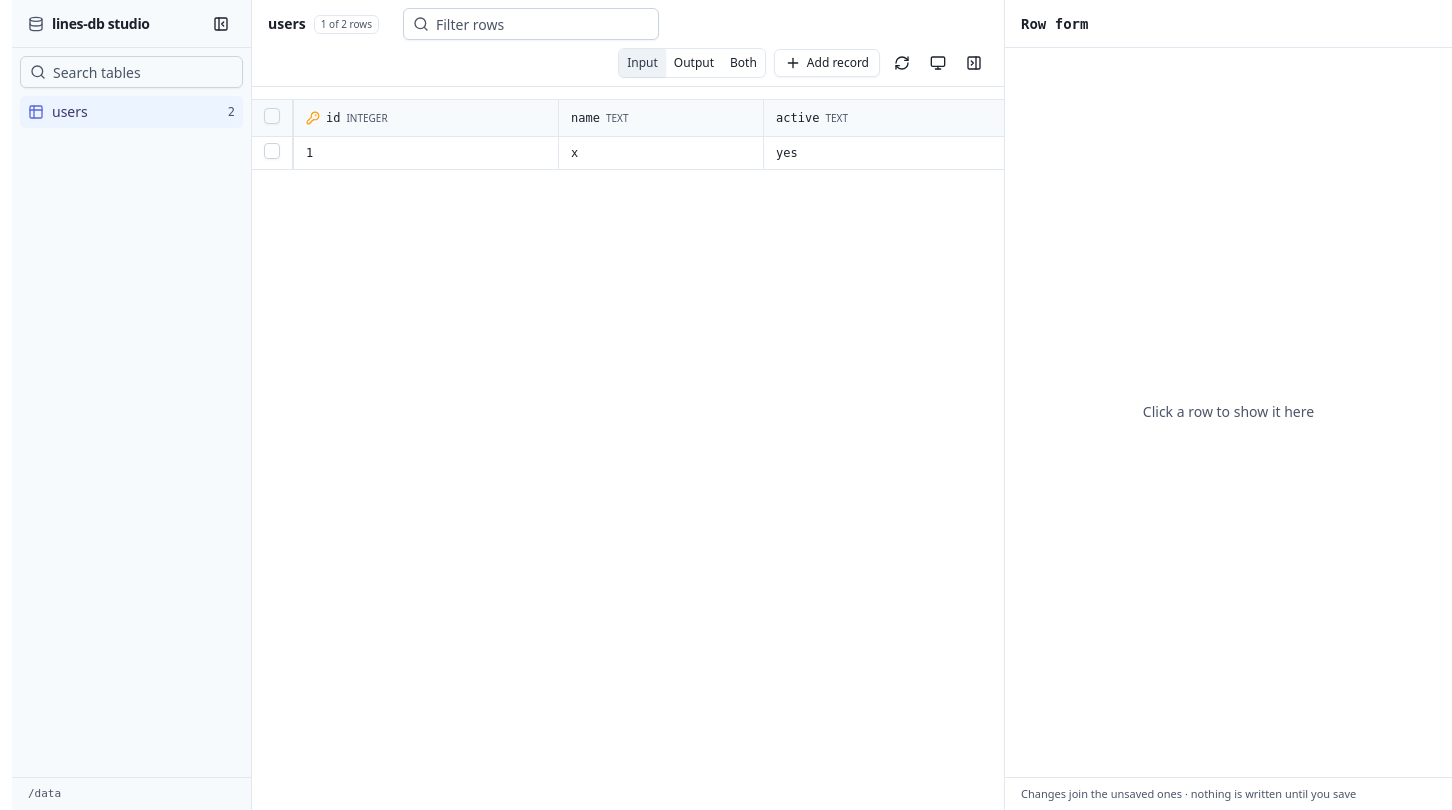
Scenario: App › a table whose schema transforms a value › edits as text a boolean column whose lines hold strings, so a value the schema takes can be typed
Click the button with aria-label "Edit active": point(884, 153) [764,139,1004,167]
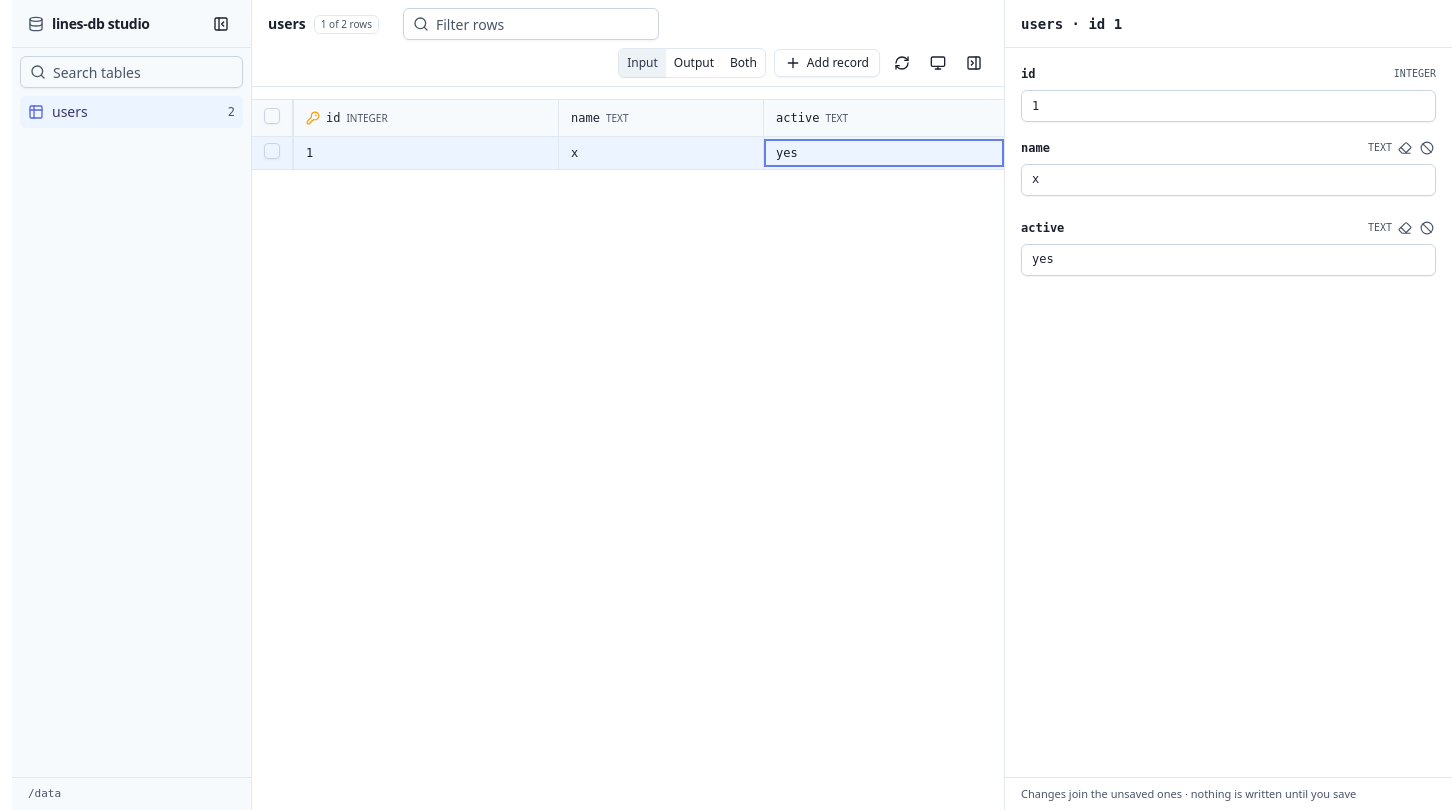
Check: the text box named "active" holds "yes"
Replace the text in the text box named "active" with "no": point(1228, 260) [1021,244,1436,276]
Then press Enter
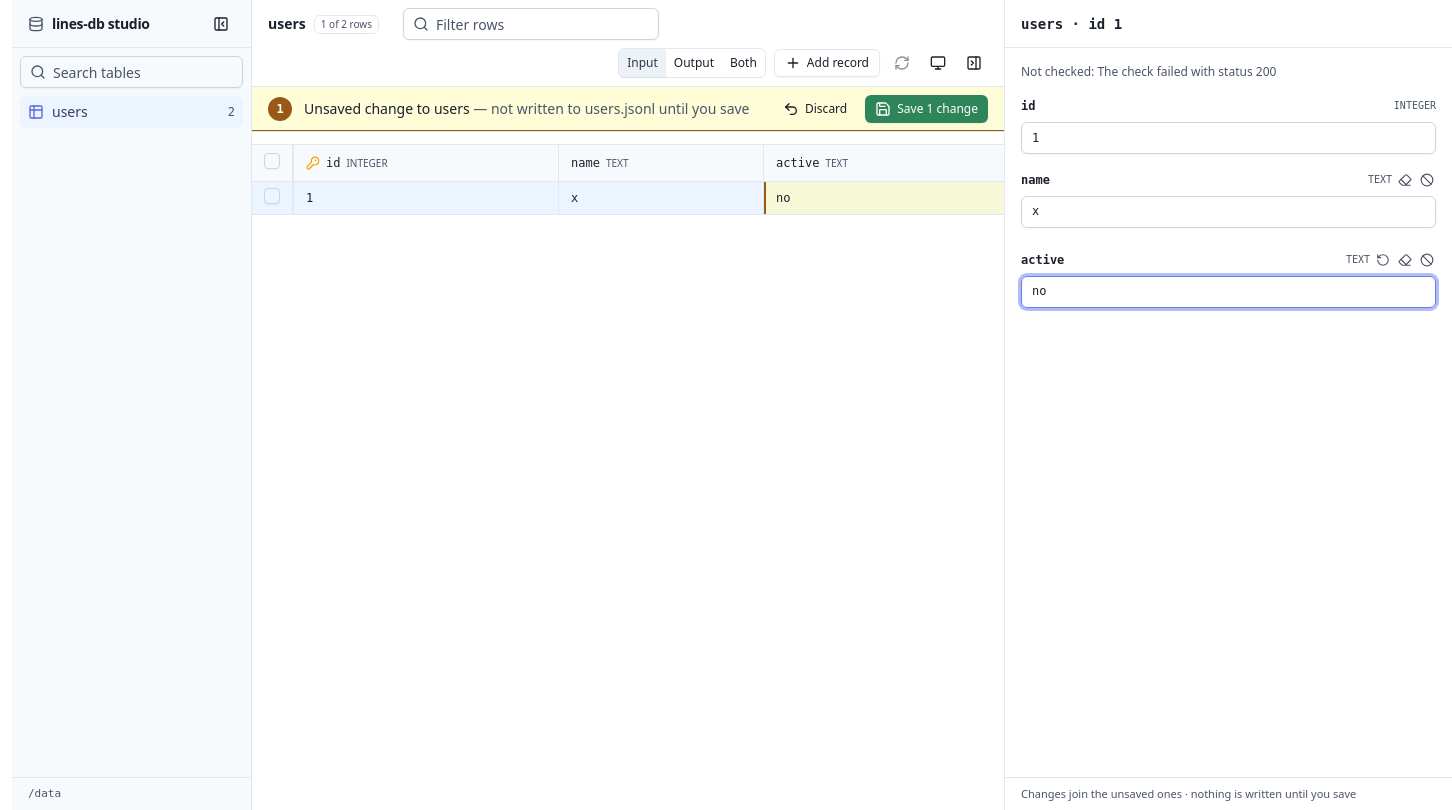
Check: the button with aria-label "Edit active" reads "no", box [764,184,1004,212]
